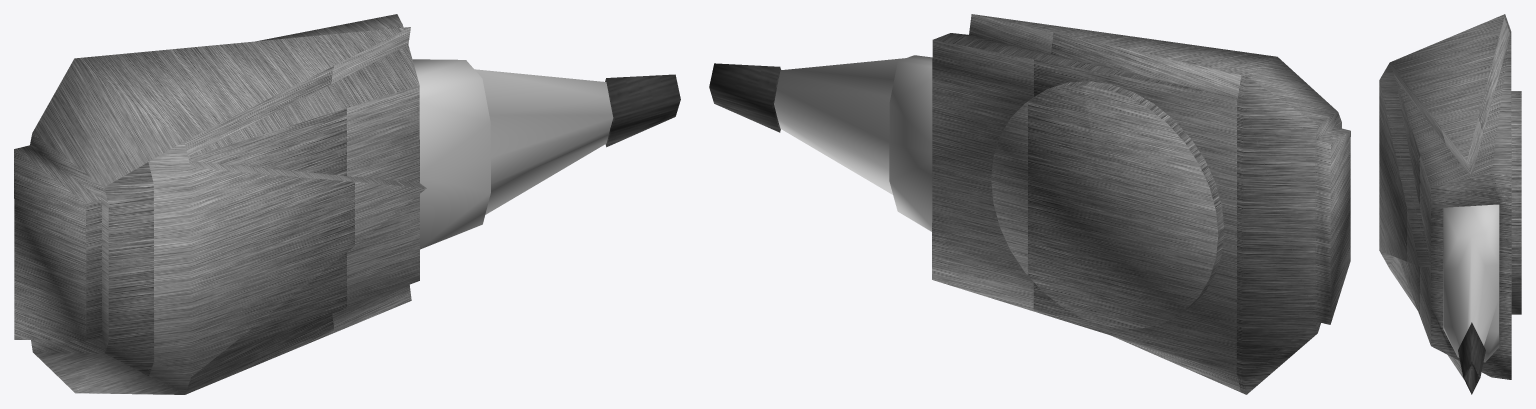
The model's file is Laser-Weapon.fbx.
3 views of the same model, side by side, from view 1: azimuth 30°, elevation 25°; view 2: azimuth 150°, elevation 25°; view 3: azimuth 270°, elevation 25° (orthographic). The views are drawn at different scales.
Visible parts, largest first — view 1: Cube.005, Cube.002, Cube.004; view 2: Cube.005, Cube.002, Cube.004; view 3: Cube.005, Cube.002, Cube.004.
Part boxes in pixels (bbox=[...]): Cube.005: bbox=[14, 14, 426, 394]; Cube.002: bbox=[412, 59, 613, 249]; Cube.004: bbox=[605, 74, 680, 147]; Cube.005: bbox=[932, 14, 1350, 394]; Cube.002: bbox=[774, 55, 932, 231]; Cube.004: bbox=[709, 63, 780, 132]; Cube.005: bbox=[1379, 14, 1521, 379]; Cube.002: bbox=[1443, 204, 1499, 362]; Cube.004: bbox=[1458, 322, 1485, 394].
Bounding box in the file's own units: 1.91 × 0.9353 × 0.4423.
